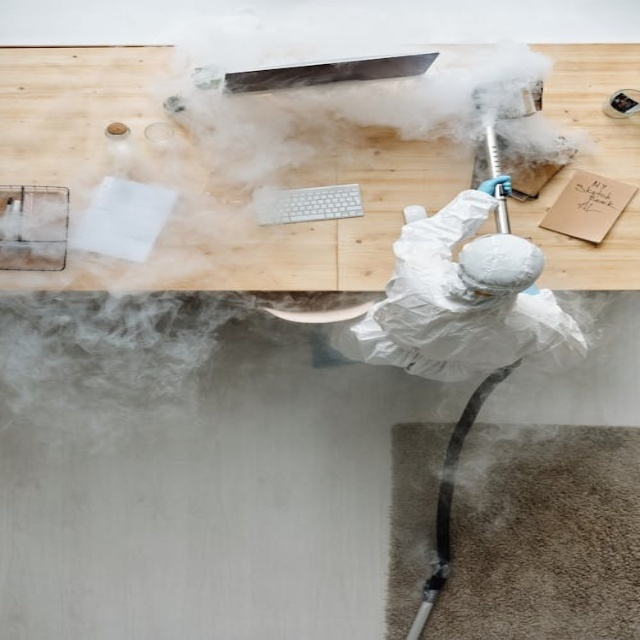Guantes: (475, 171, 518, 203)
